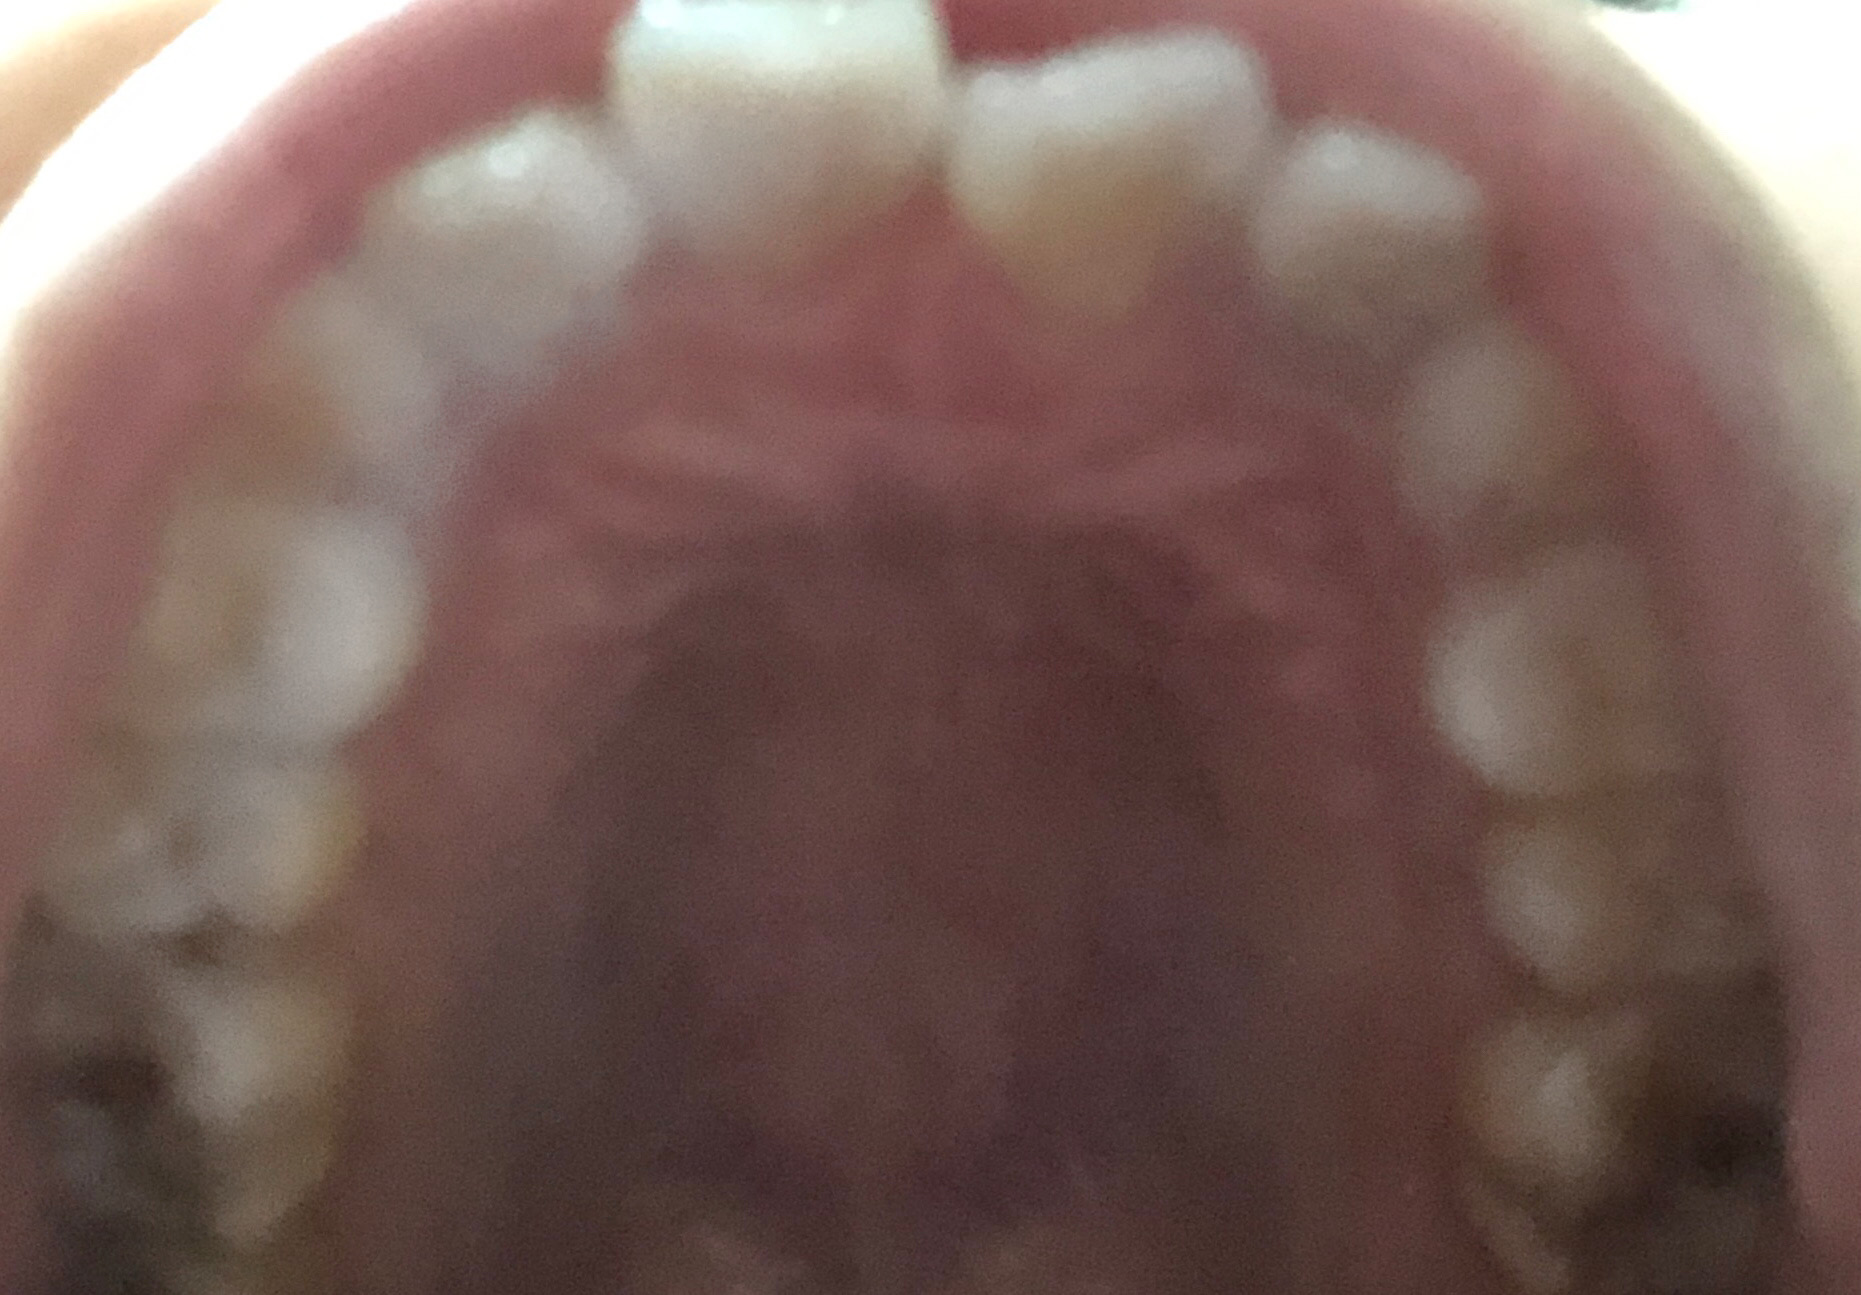teeth: (953, 20, 1293, 325), (116, 500, 425, 743), (381, 98, 666, 348), (1458, 549, 1688, 800), (1257, 116, 1491, 360), (1417, 310, 1615, 547)
